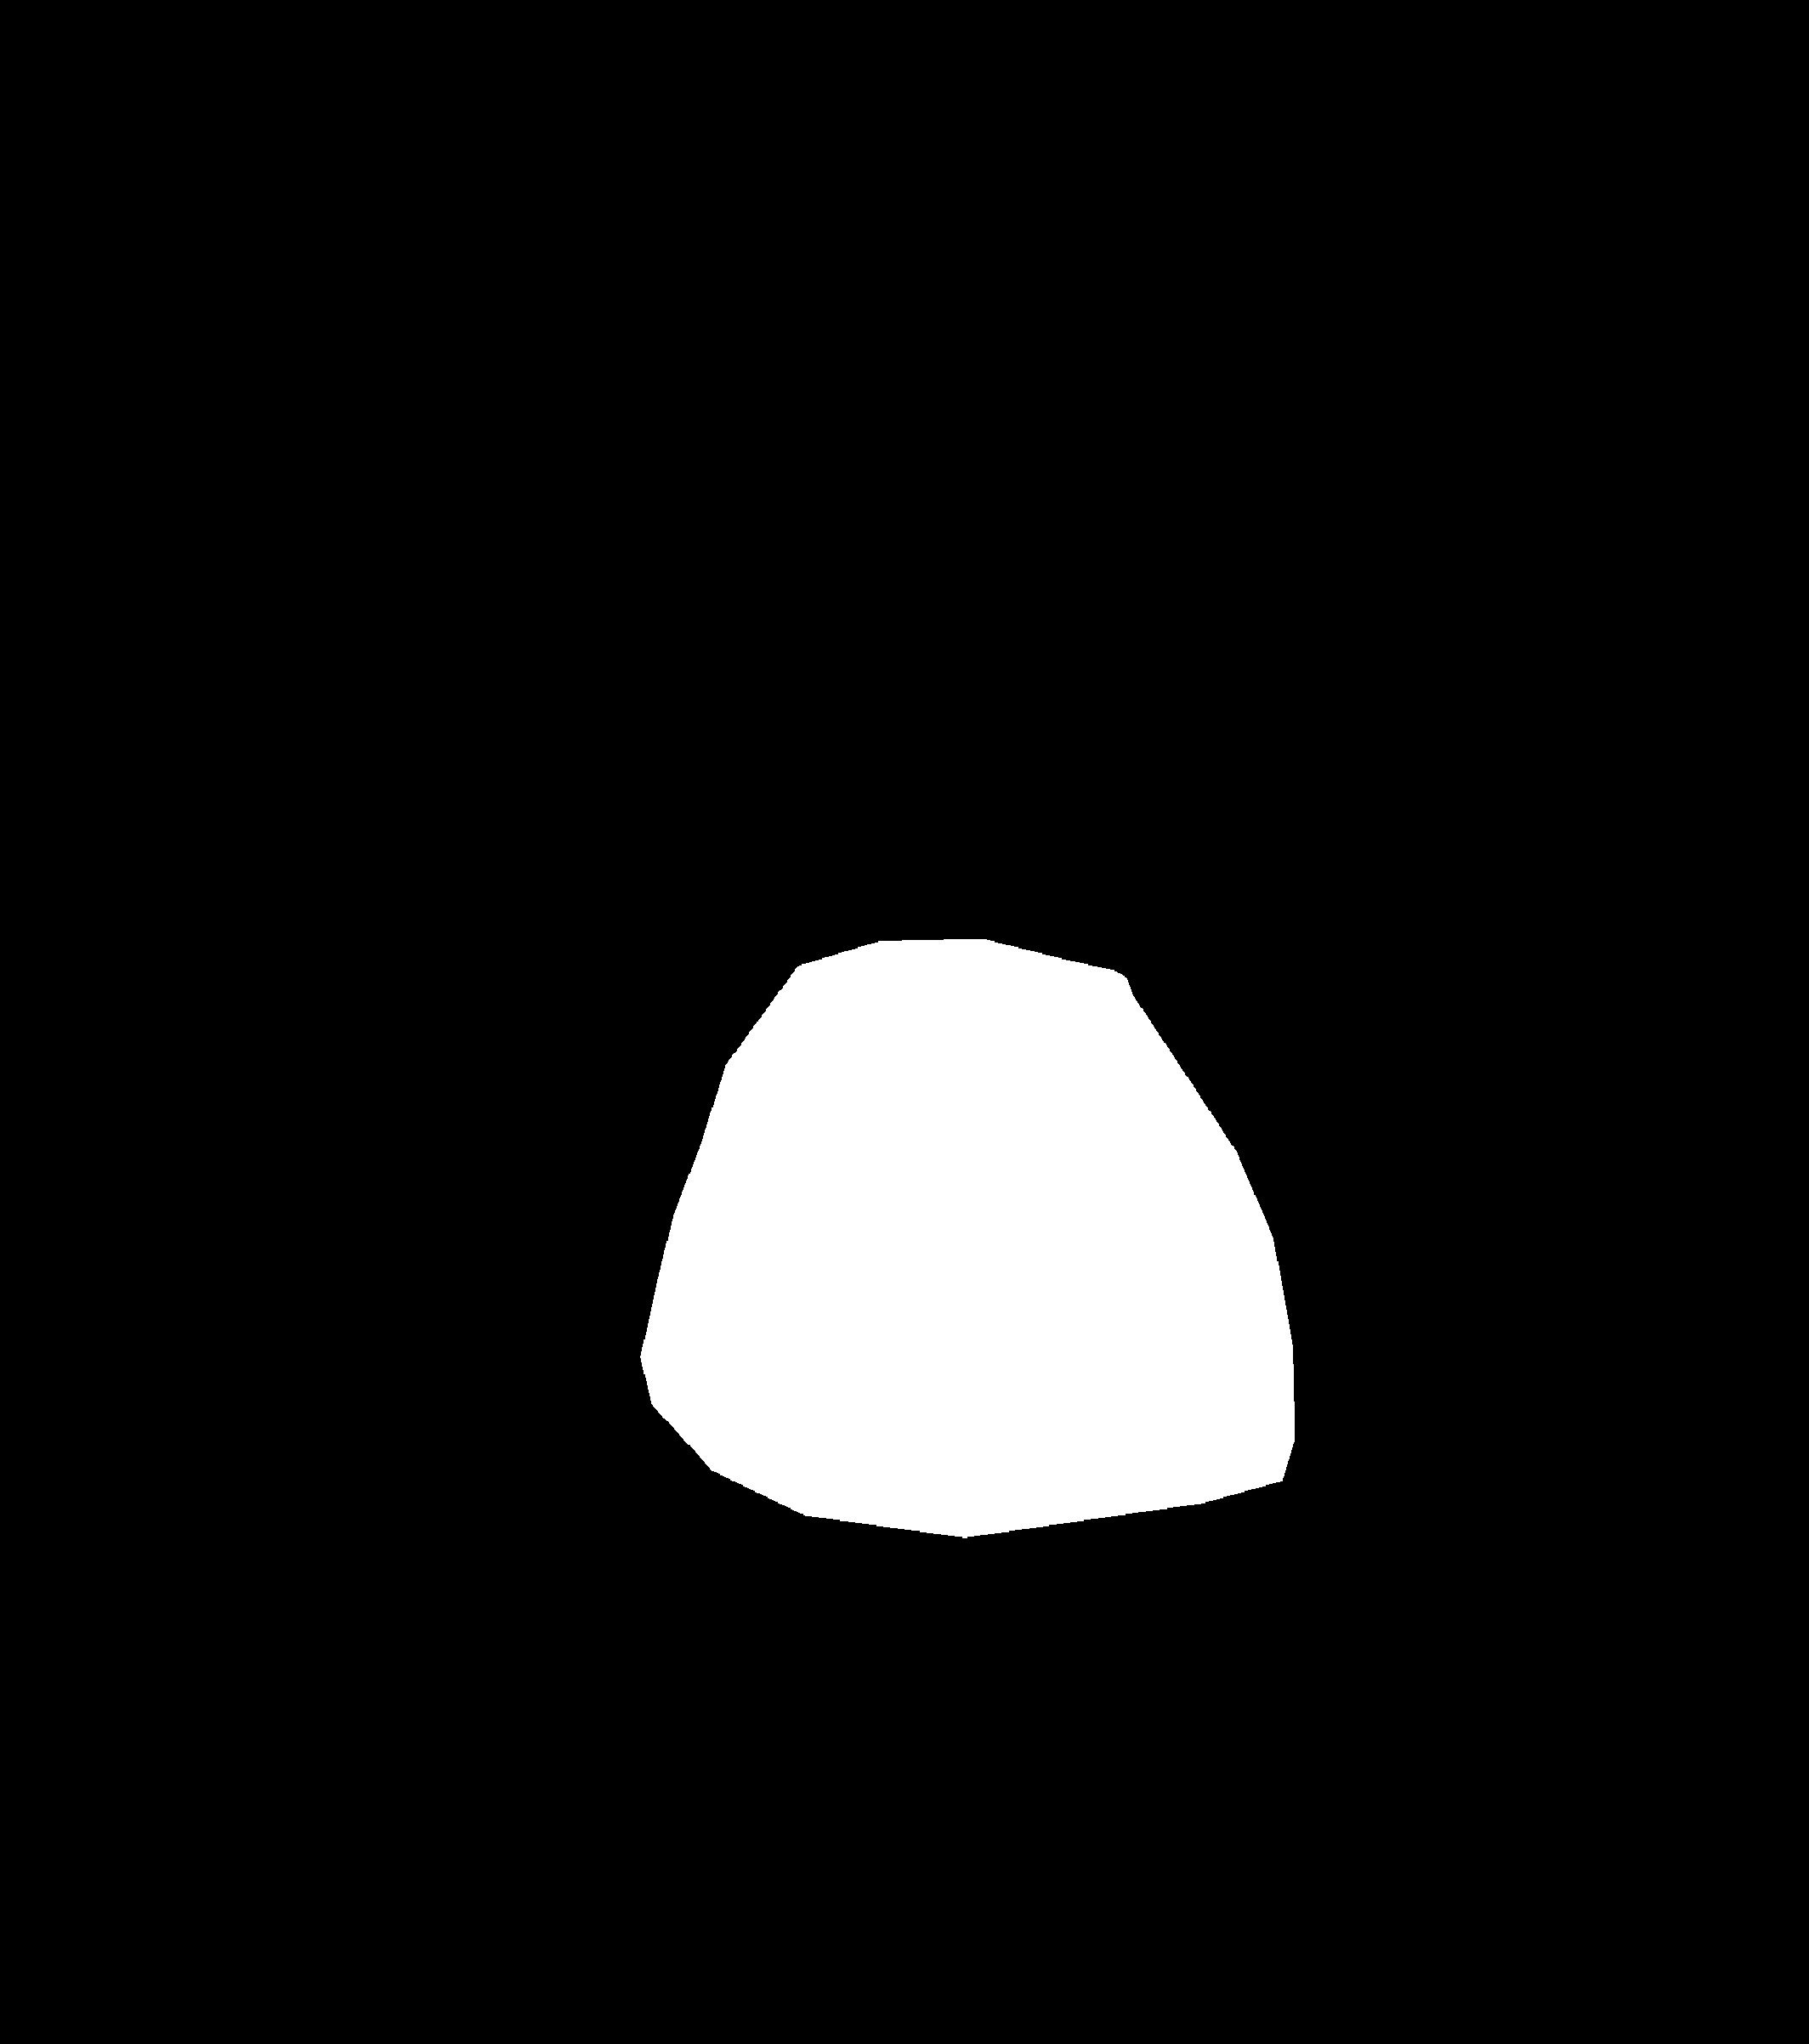heart: (648, 1028, 1297, 1578)
left_lung: (211, 232, 850, 1639)
right_lung: (1011, 197, 1540, 1684)
